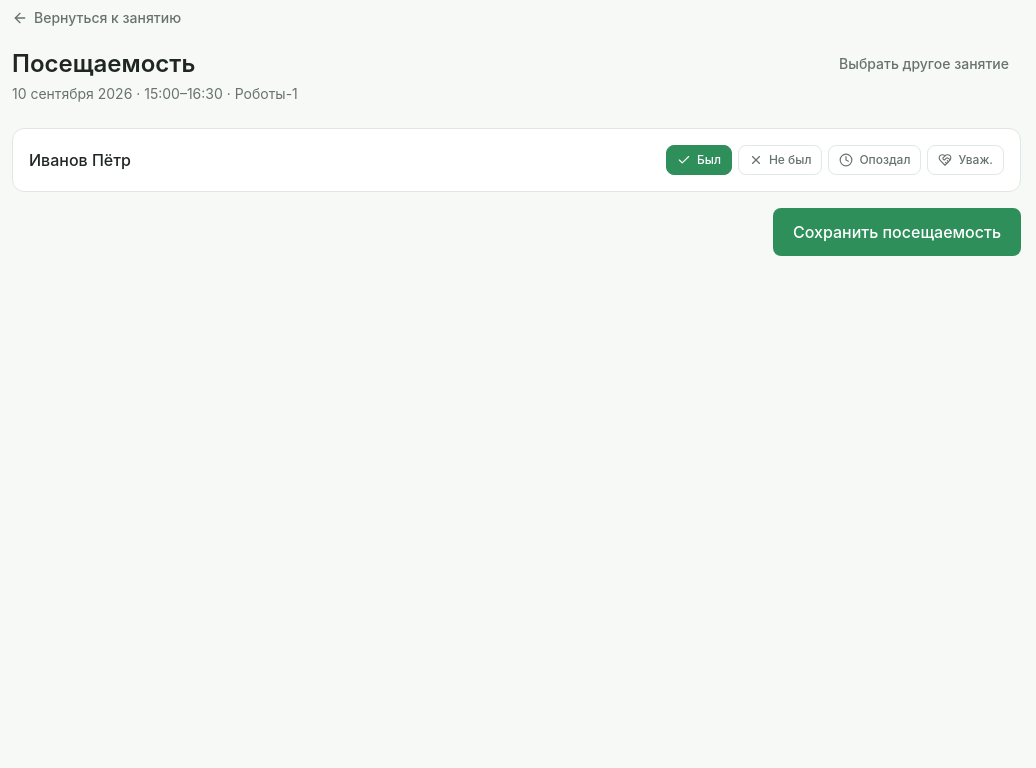
Test: AttendancePage › shows an error toast and stays put when saving fails
Expected: the text "Иванов Пётр" is shown, x1=29 y1=148 x2=131 y2=172
Click the button "Сохранить посещаемость" at point(897, 232), box x1=773 y1=208 x2=1021 y2=256
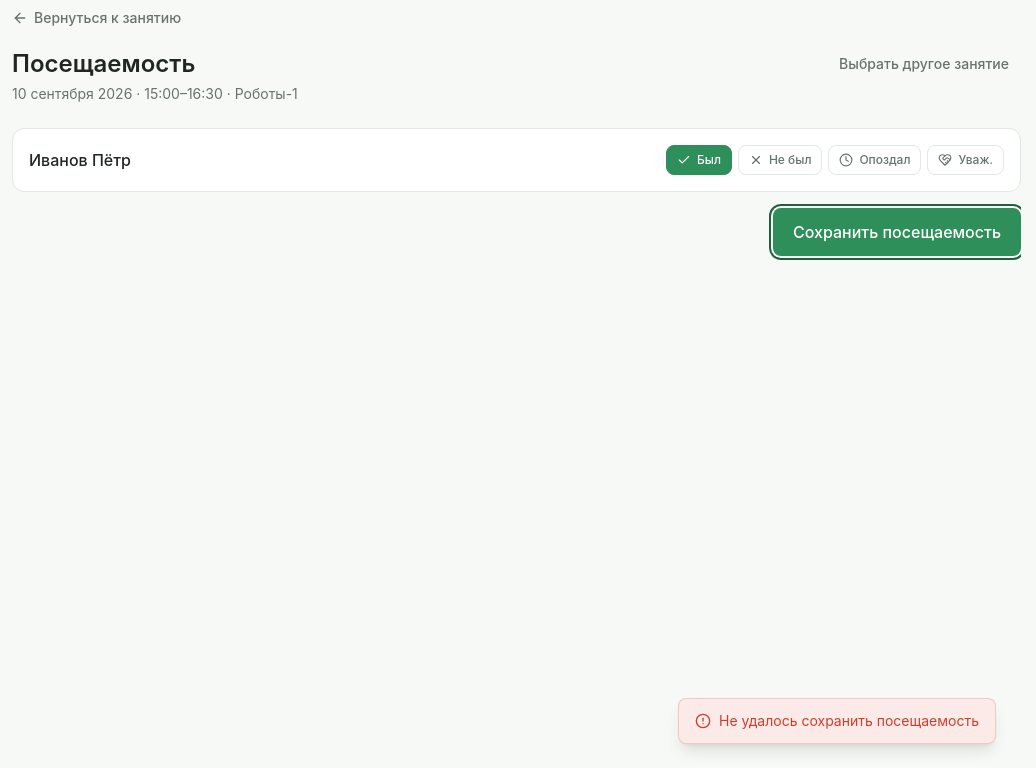
Expected: the text "Не удалось сохранить посещаемость" is shown, x1=719 y1=711 x2=979 y2=731
